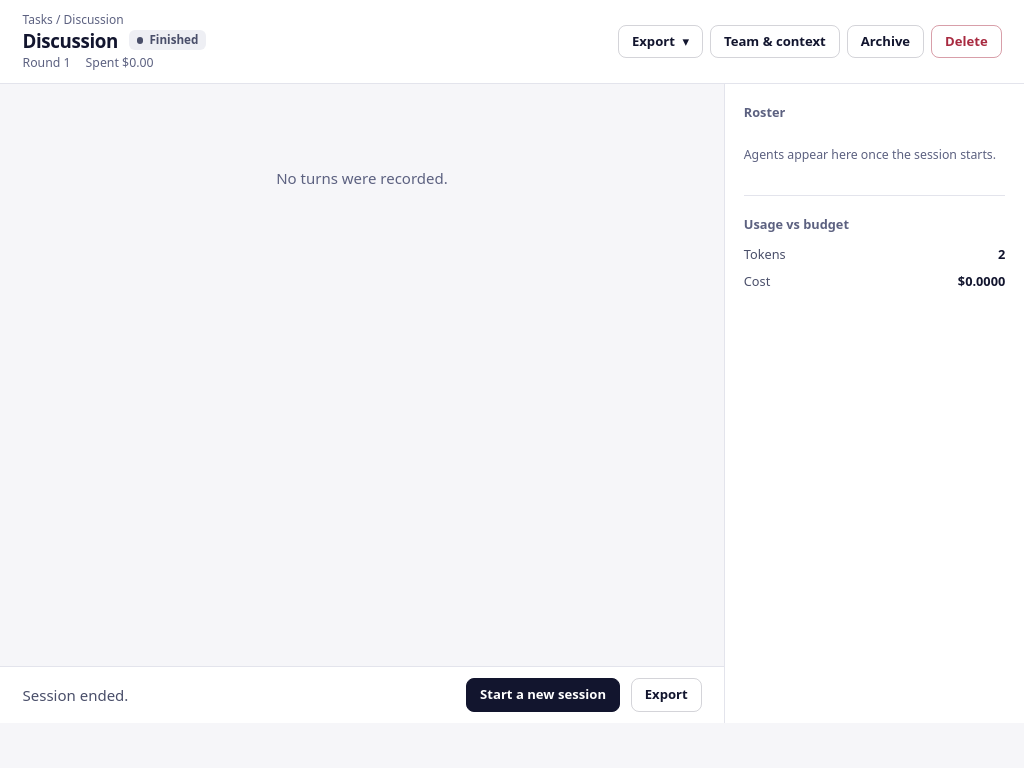
Test case: BaytoRoom › puts the export choices in one menu, and confirms with a toast
The width and height of the screenshot is (1024, 768).
Click the button "Export ▾": (660, 42) 618,25 -> 703,58
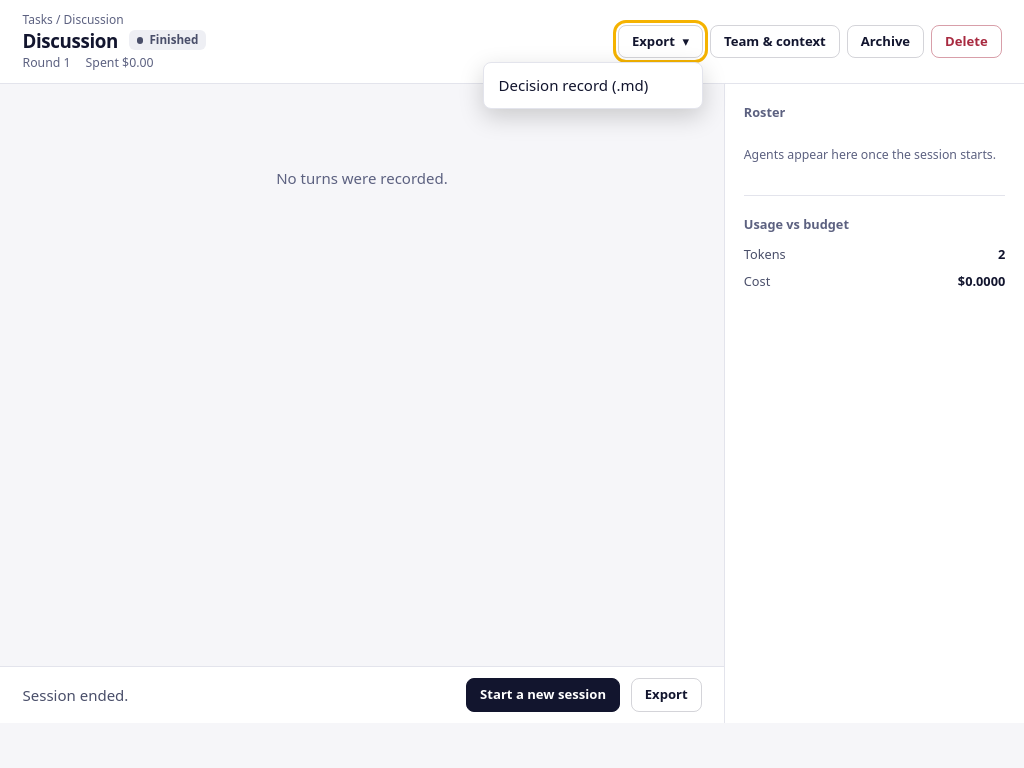
Expected: the menu item "Decision record (.md)" is shown, 488,67 -> 698,104
